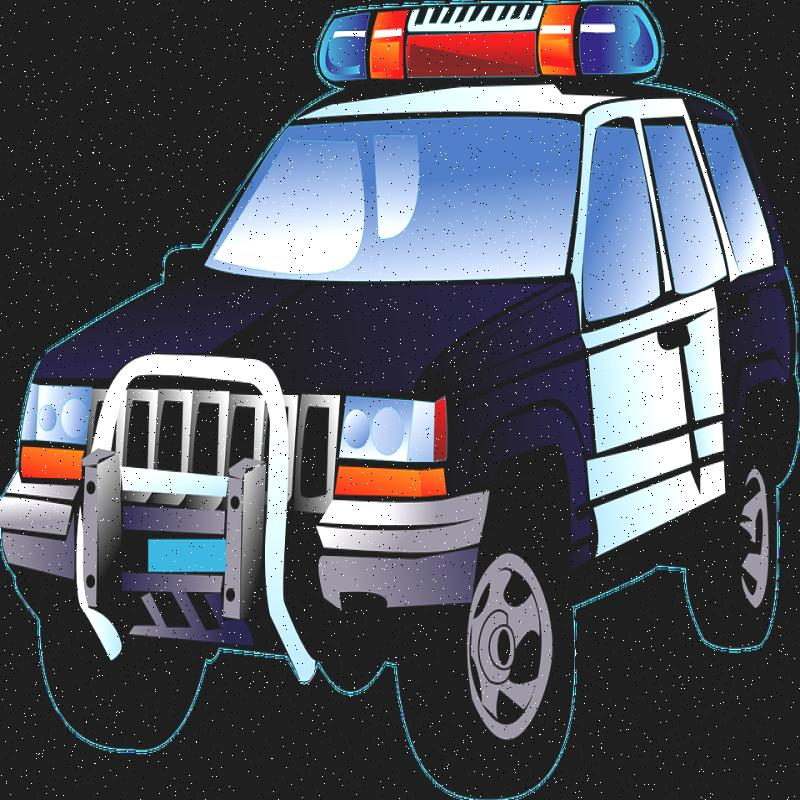AmbulanceSiren: (289, 2, 655, 105)
